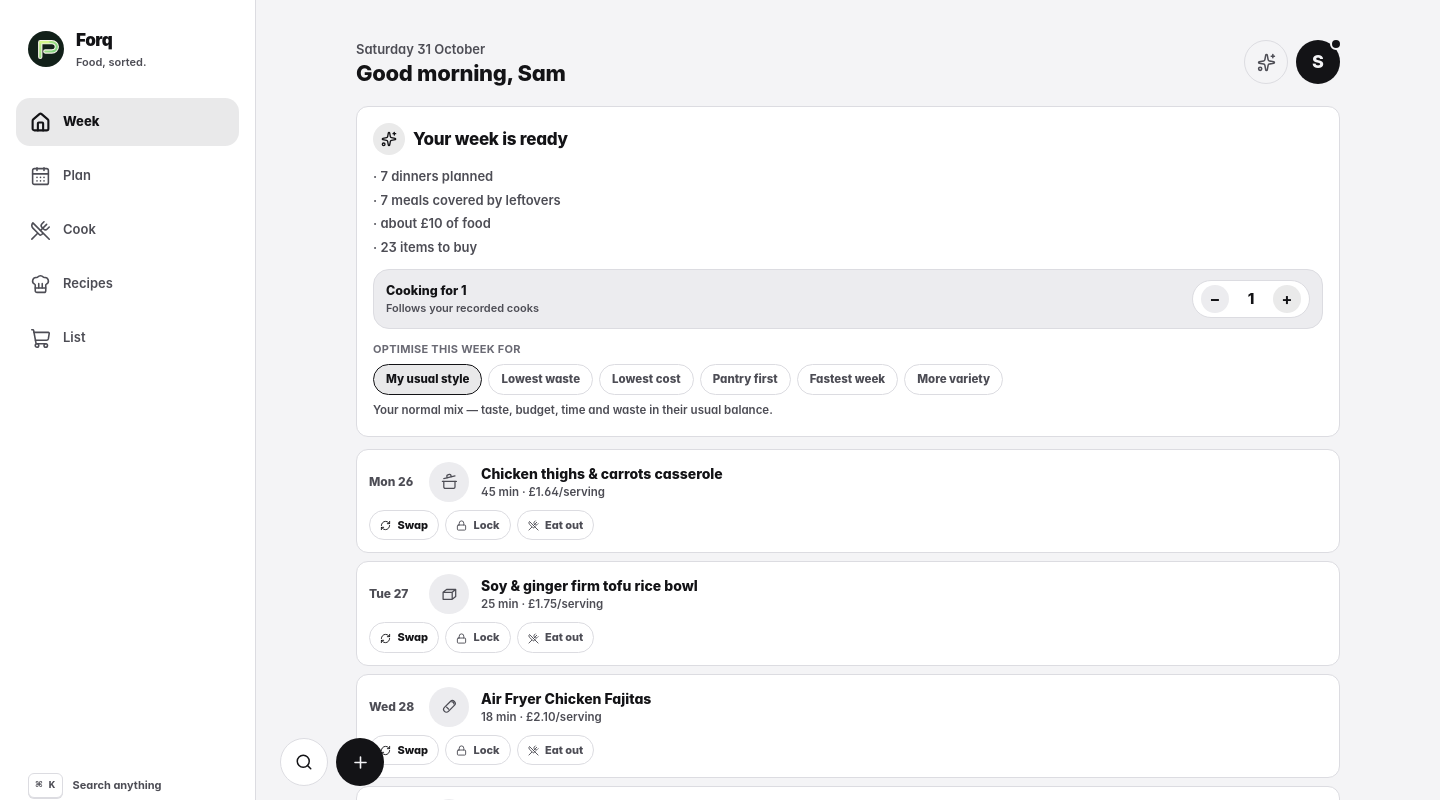
Test: settings are separated from the dashboard scroll › keeps the settings card out of the day-to-day flow: no Appearance section on You
The width and height of the screenshot is (1440, 800).
Click the button named "You — profile": (1318, 62) [1296,40,1340,84]
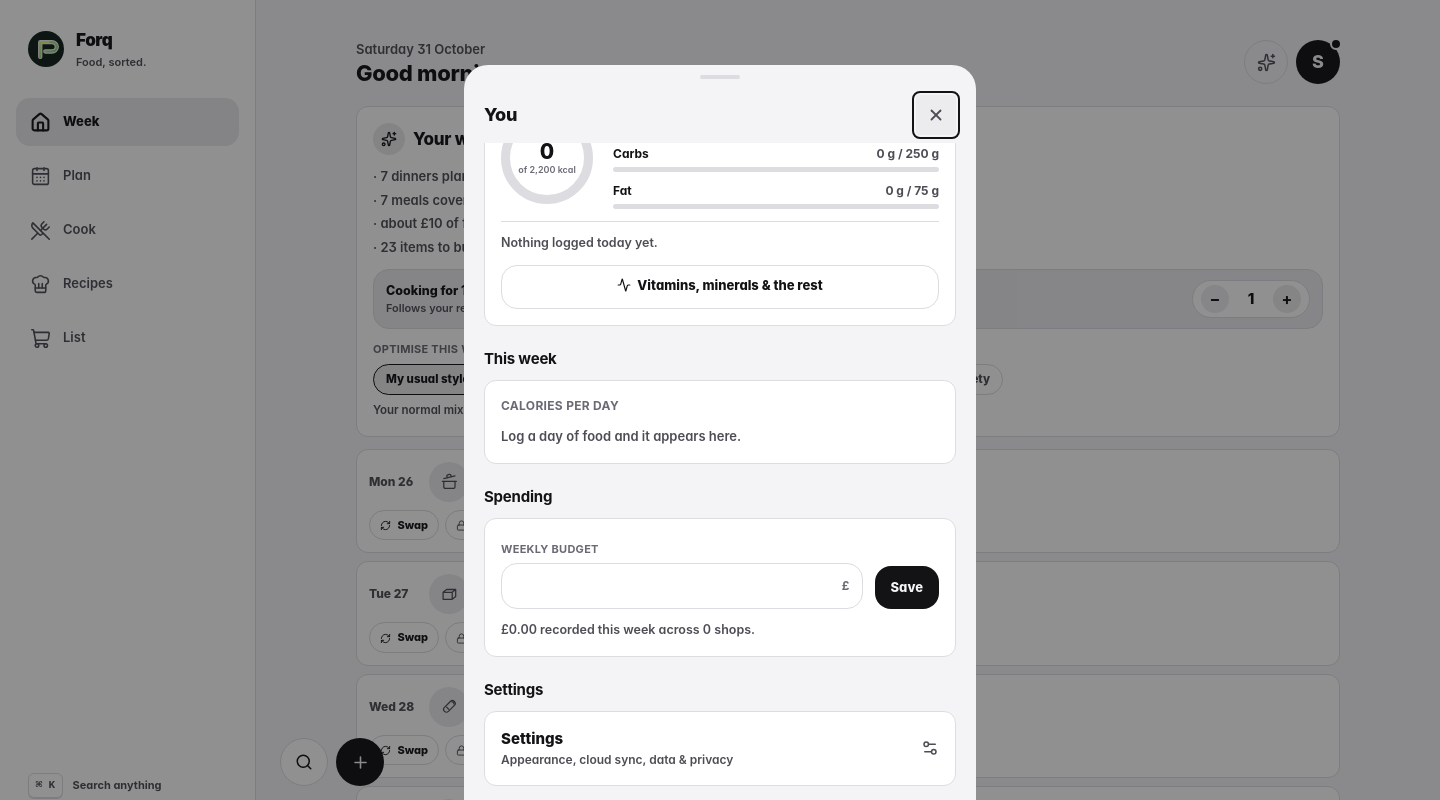
Now the button "Settings" is shown, box [484,711,956,786]
